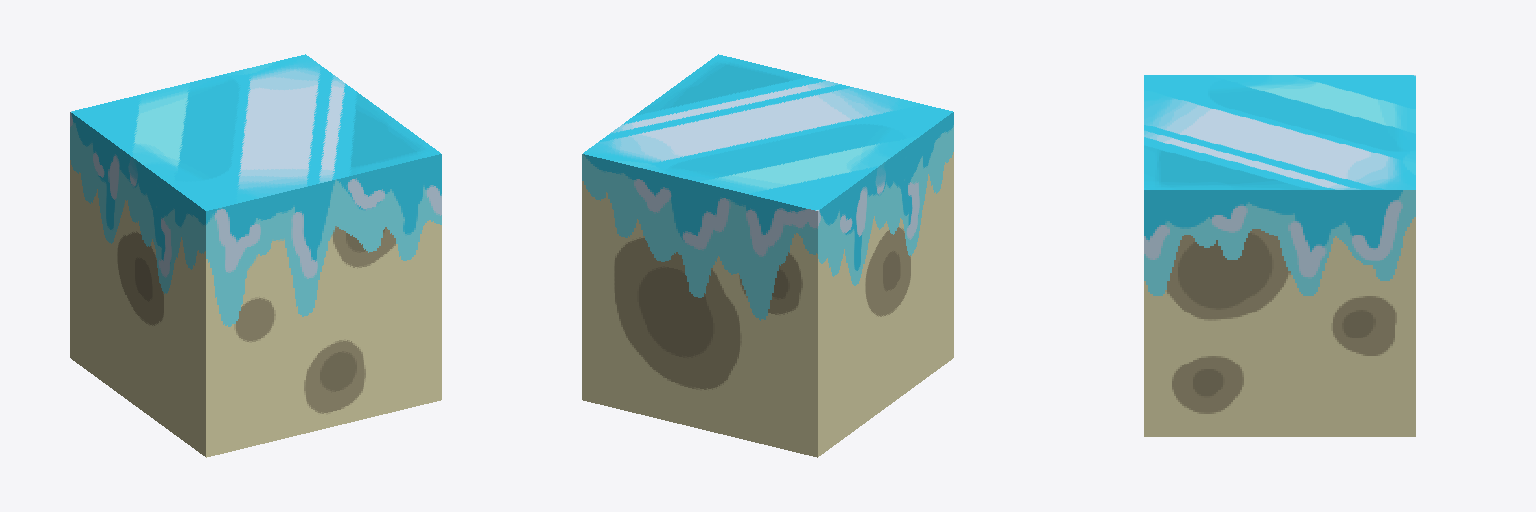
3 renders of one model, left to right at view 1: azimuth 30°, elevation 25°; view 2: azimuth 150°, elevation 25°; view 3: azimuth 270°, elevation 25°, orthographic.
Visible parts, largest first — view 1: Cube; view 2: Cube; view 3: Cube.
Part boxes in pixels (left/top/right/bottom): Cube: left=70, top=54, right=441, bottom=457; Cube: left=582, top=54, right=953, bottom=457; Cube: left=1144, top=75, right=1415, bottom=436.
Bounding box in the file's own units: 1 × 1 × 1.
Materials: 1 (1 with a texture image).